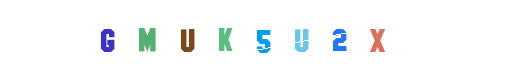2: (261, 0, 341, 80)
5: (216, 0, 296, 80)
G: (67, 0, 147, 80)
K: (165, 0, 245, 80)
M: (139, 0, 219, 80)
U: (147, 0, 227, 80), (255, 0, 335, 80)
X: (330, 0, 410, 80)
